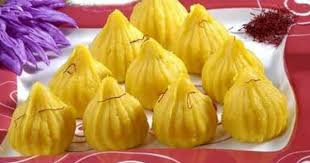modak: (211, 56, 308, 152), (35, 34, 123, 110), (114, 29, 203, 102), (8, 74, 83, 158), (142, 70, 220, 148), (81, 71, 155, 153), (90, 11, 156, 78), (203, 34, 270, 98), (169, 2, 234, 67), (128, 1, 198, 48)
